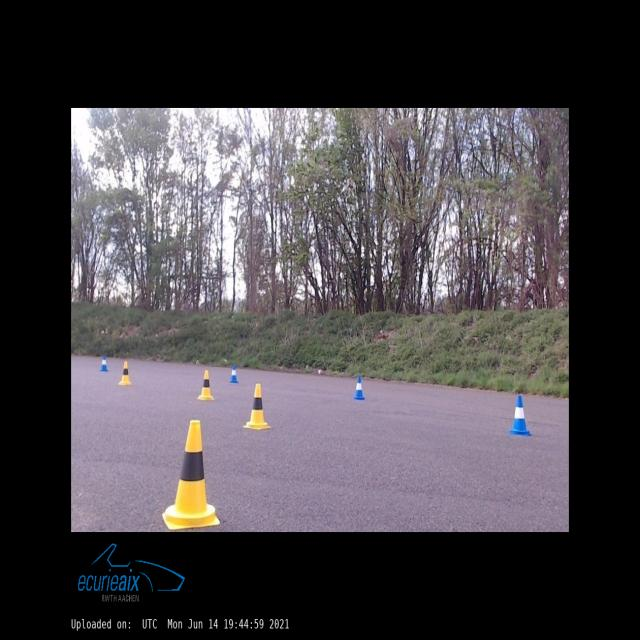blue_cone: (510, 396, 530, 436), (354, 376, 365, 399), (100, 355, 108, 371), (230, 366, 238, 382)
yellow_cone: (162, 420, 220, 530), (243, 384, 270, 429), (197, 370, 214, 400), (119, 362, 131, 384)
